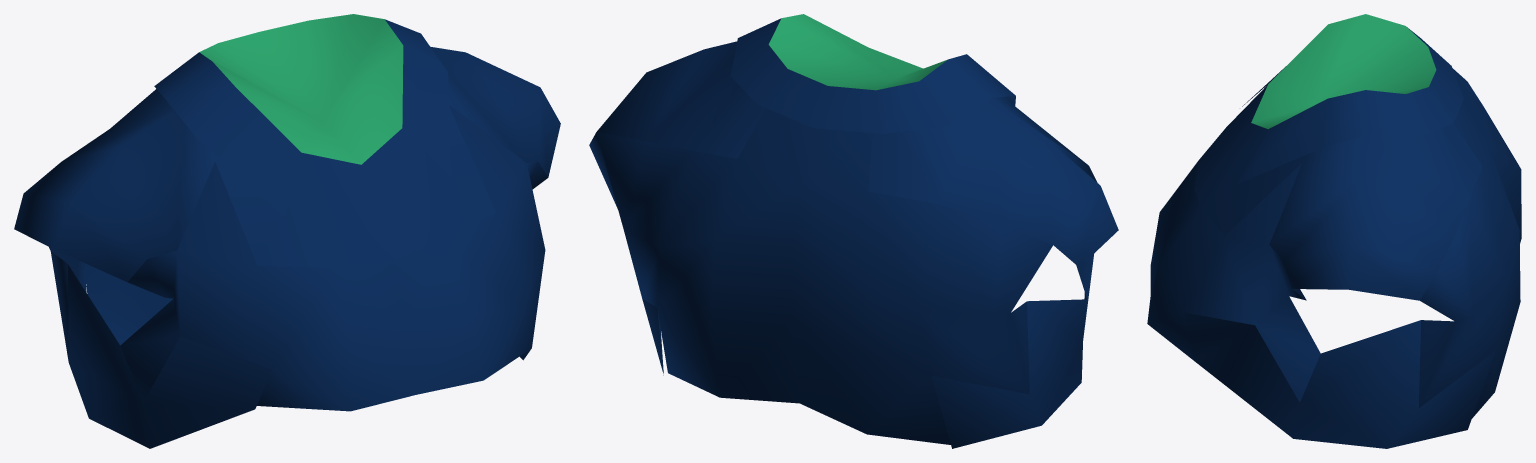
Rendered from spine2.glb.
3 views of the same model, side by side, from view 1: azimuth 30°, elevation 25°; view 2: azimuth 150°, elevation 25°; view 3: azimuth 270°, elevation 25° (orthographic). The views are drawn at different scales.
Parts seen in each view (by area): view 1: polo-navy_SPINE2; view 2: polo-navy_SPINE2; view 3: polo-navy_SPINE2.
Part boxes in pixels (x1=…): polo-navy_SPINE2: x1=14, y1=14, x2=560, y2=448; polo-navy_SPINE2: x1=589, y1=14, x2=1118, y2=448; polo-navy_SPINE2: x1=1147, y1=14, x2=1521, y2=448.
Size of the model in its own units: 0.4737 by 0.3067 by 0.333.
1 material, 1 textured.
